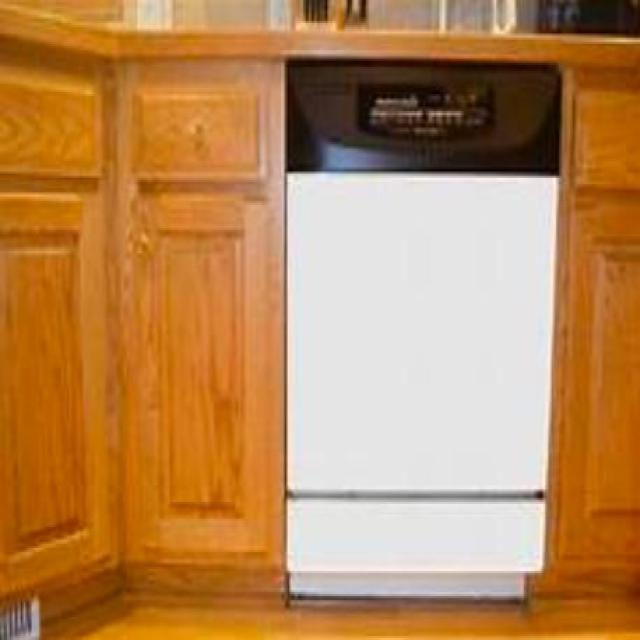dishwasher: (284, 52, 562, 594)
